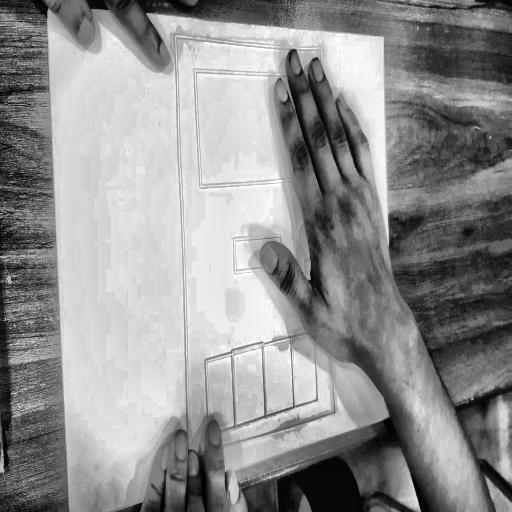bottom_right: (392, 410, 397, 418)
door: (170, 25, 341, 467)
top_left: (46, 5, 51, 13)
top_right: (381, 34, 386, 42)
